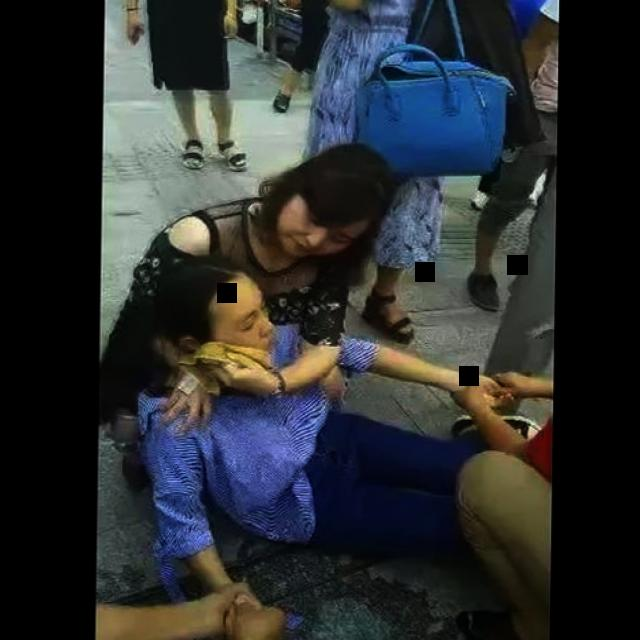Fall-Detected: (121, 253, 531, 640)
